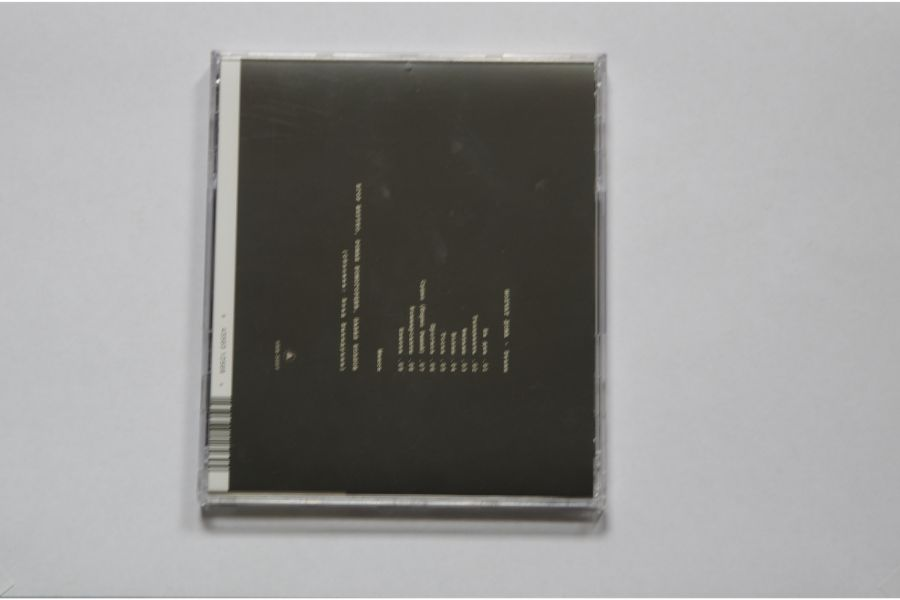album: (198, 46, 610, 516)
